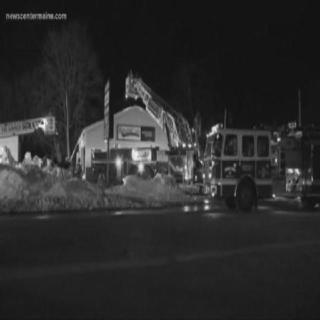other: (112, 148, 130, 178), (134, 161, 150, 177)
